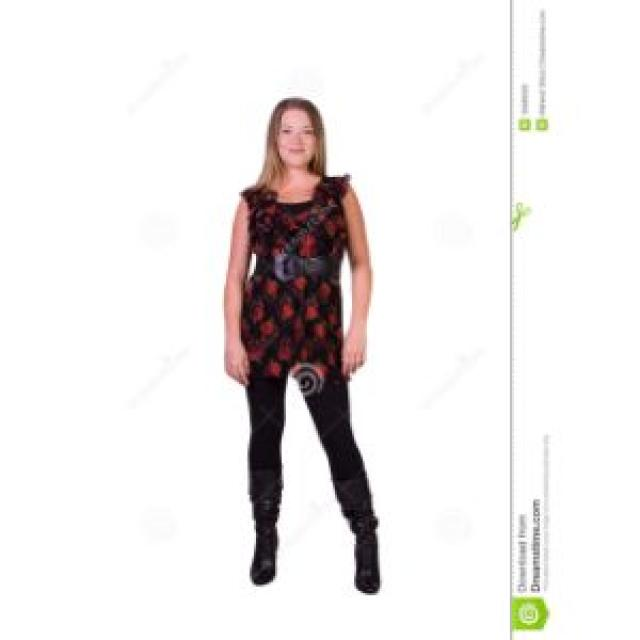adult: (184, 70, 422, 640)
